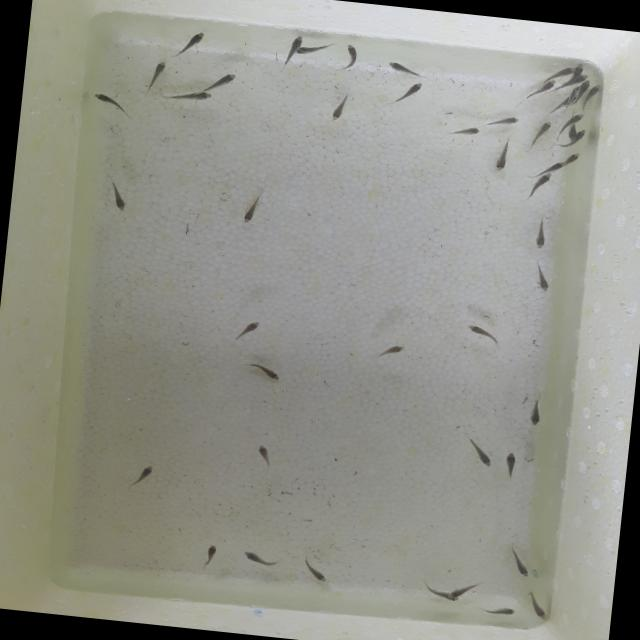fingerling: (90, 90, 128, 116), (385, 60, 431, 80), (521, 594, 551, 624), (507, 549, 535, 581), (416, 584, 463, 603), (130, 458, 156, 492), (526, 173, 554, 204), (200, 69, 238, 91), (464, 321, 502, 343), (250, 439, 274, 472), (396, 79, 424, 106), (180, 29, 206, 58), (466, 442, 494, 468), (250, 360, 283, 382), (233, 321, 260, 347), (443, 125, 482, 143), (238, 548, 276, 566), (284, 30, 306, 61), (238, 197, 260, 227), (560, 147, 589, 169), (448, 582, 479, 602), (342, 41, 362, 71), (534, 115, 556, 142), (544, 64, 576, 82), (492, 142, 510, 174), (303, 562, 329, 584), (148, 59, 166, 89), (486, 114, 524, 128), (378, 342, 408, 359), (109, 188, 130, 212), (328, 97, 348, 121), (531, 79, 556, 98), (534, 269, 552, 294), (574, 76, 590, 104), (575, 124, 591, 150), (482, 604, 516, 616), (180, 90, 214, 102), (502, 449, 517, 476), (201, 542, 219, 564), (301, 42, 331, 55), (586, 80, 602, 104), (534, 224, 548, 251), (526, 405, 542, 427), (562, 112, 586, 126), (548, 158, 566, 172)
